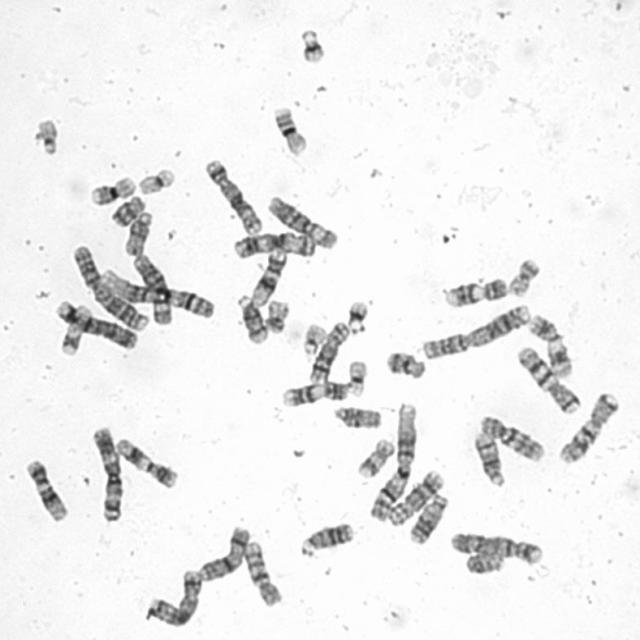A1: (96, 263, 217, 320), (365, 398, 420, 522)
A2: (68, 240, 152, 334), (417, 299, 532, 359)
A3: (89, 422, 126, 523), (229, 227, 318, 261)
B4: (52, 298, 138, 350), (446, 528, 545, 566)
B5: (201, 154, 265, 235), (144, 566, 204, 628)
C10: (476, 411, 547, 463), (240, 536, 284, 608)
C11: (112, 435, 180, 490), (524, 309, 576, 379)
C12: (21, 453, 68, 522), (249, 245, 289, 308)
C6: (266, 190, 340, 250), (129, 249, 176, 326)
C7: (512, 341, 582, 416), (556, 388, 622, 464)
C8: (384, 464, 447, 526), (306, 318, 352, 384)
C9: (440, 272, 511, 308), (278, 378, 351, 408)
D13: (406, 490, 452, 545), (295, 517, 356, 558)
D14: (469, 429, 507, 489), (232, 290, 270, 346)
D15: (121, 208, 154, 258), (331, 403, 384, 430)
E16: (269, 102, 309, 156), (85, 170, 139, 206)
E17: (54, 302, 91, 357), (352, 436, 396, 479)
E18: (383, 348, 428, 381), (107, 192, 148, 228)
F19: (135, 163, 177, 196), (344, 356, 368, 398)
F20: (505, 254, 542, 297), (260, 294, 291, 335)
G21: (295, 23, 327, 64), (343, 296, 372, 336)
G22: (32, 112, 62, 158), (300, 317, 329, 357)
X: (193, 523, 253, 583)
Y: (462, 548, 506, 575)
